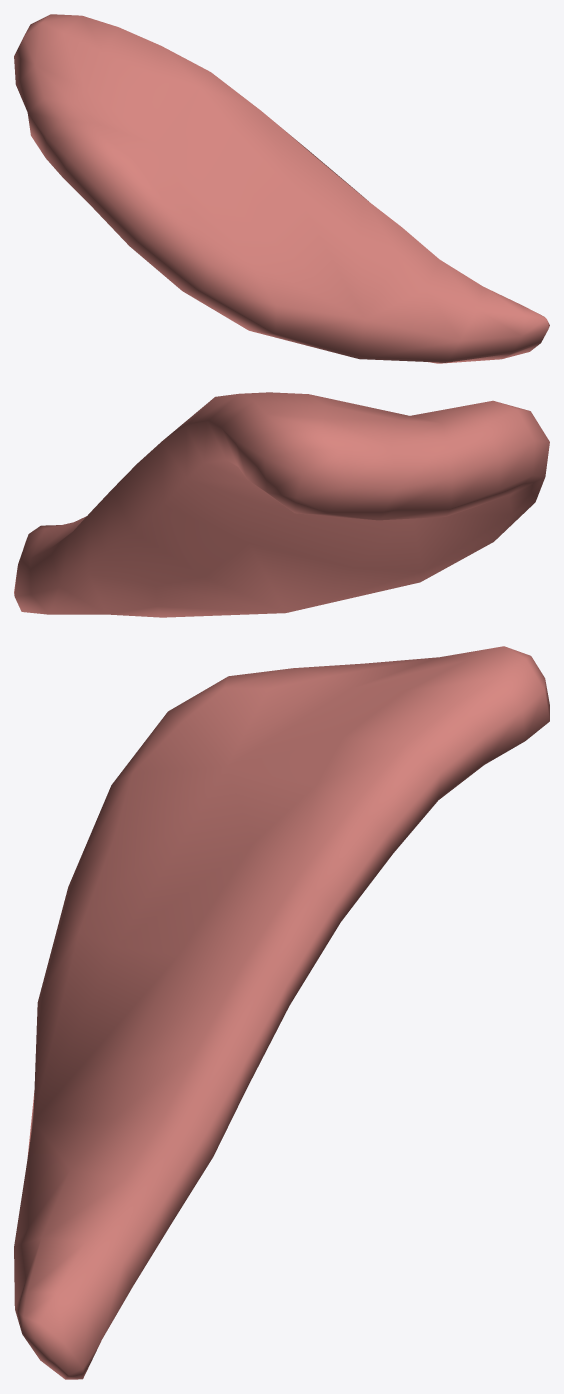
The picture shows the model from 3 angles, top to bottom: view 1: azimuth 30°, elevation 25°; view 2: azimuth 150°, elevation 25°; view 3: azimuth 270°, elevation 25°; orthographic projection. The views are drawn at different scales.
Parts seen in each view (by area): view 1: ZA_cafb17d721ac2641; view 2: ZA_cafb17d721ac2641; view 3: ZA_cafb17d721ac2641.
Boxes of the visible parts, bbox=[...] form: ZA_cafb17d721ac2641: bbox=[14, 14, 549, 363]; ZA_cafb17d721ac2641: bbox=[14, 392, 549, 617]; ZA_cafb17d721ac2641: bbox=[14, 646, 549, 1379].
Bounding box in the file's own units: 0.0034 × 0.00241 × 0.00246.
